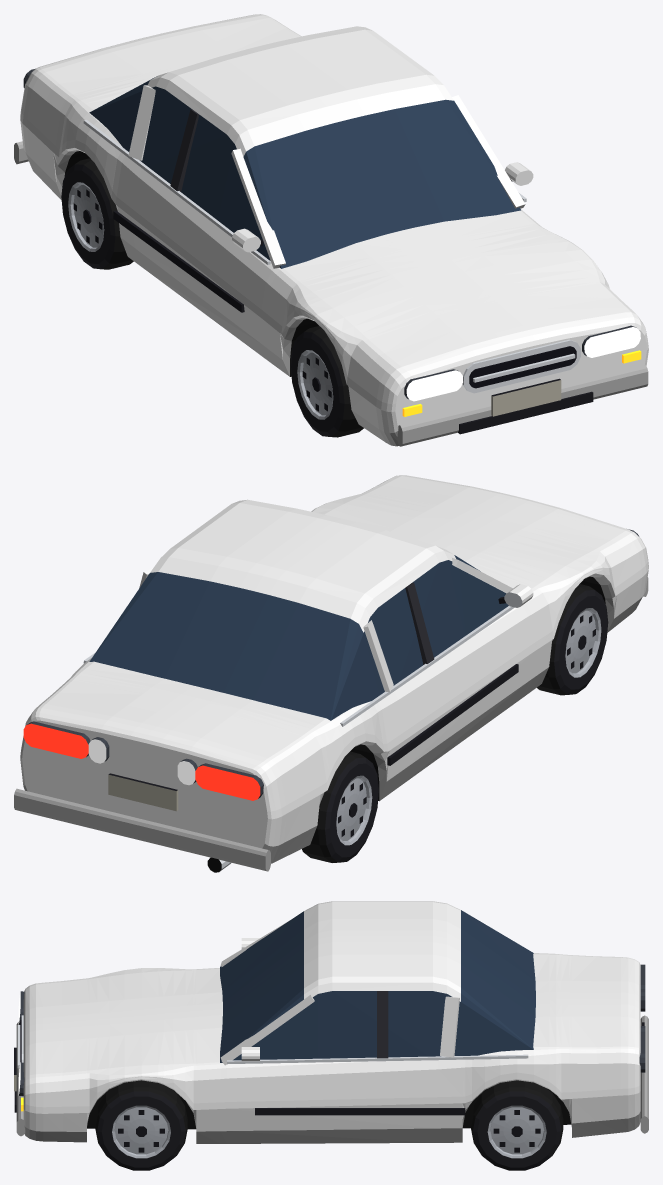
The model's file is sedan.glb.
3 renders of one model, top to bottom at view 1: azimuth 30°, elevation 25°; view 2: azimuth 150°, elevation 25°; view 3: azimuth 270°, elevation 25°, orthographic. The views are drawn at different scales.
Parts seen in each view (by area): view 1: paint, glass, stripe_a, paint_shade, tire_side (×2), stripe_b, rim (×2), chrome, trim, headlight, tire (×2), trim_grille (+2 smaller); view 2: paint, glass, stripe_a, paint_shade, tire_side (×2), stripe_b, rim (×2), taillight, tire (×2), trim, plate, chrome (+4 smaller); view 3: paint, glass, stripe_a, paint_shade, tire_side (×2), rim (×2), stripe_b, tire (×2), trim, chrome, trim_under, chrome_housing (+1 smaller).
Boxes of the visible parts, x1,y1,x2,y2 form: paint: (20,14,648,433); glass: (89,76,520,268); stripe_a: (104,26,565,360); paint_shade: (14,141,648,446); tire_side (×2): (61,164,344,436); stripe_b: (20,111,648,412); rim (×2): (68,182,333,419); chrome: (83,119,580,393); trim: (113,178,593,434); headlight: (406,327,640,401); tire (×2): (75,158,363,437); trim_grille: (469,346,576,388); paint: (20,475,648,848); glass: (89,555,508,720); stripe_a: (100,486,561,754); paint_shade: (14,575,648,871); tire_side (×2): (325,590,608,862); stripe_b: (20,559,648,819); rim (×2): (336,608,601,845); taillight: (23,723,260,800); tire (×2): (302,584,594,862); trim: (108,597,518,790); plate: (108,774,178,811); chrome: (83,592,522,871); paint: (23,901,640,1131); glass: (220,910,535,1062); stripe_a: (23,919,640,1050); paint_shade: (16,1015,648,1143); tire_side (×2): (97,1091,561,1170); rim (×2): (112,1105,546,1158); stripe_b: (23,1072,640,1113); tire (×2): (95,1080,563,1156); trim: (14,1022,644,1115); chrome: (17,1015,528,1068); trim_under: (87,1088,571,1129); chrome_housing: (19,964,645,1096).
Bounding box in the file's own units: 1.96 × 1.44 × 4.53.
